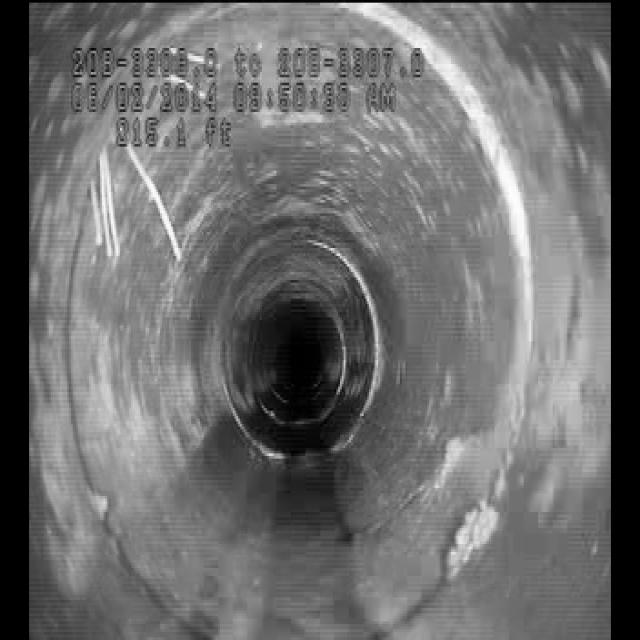Crack: (352, 402, 502, 550)
